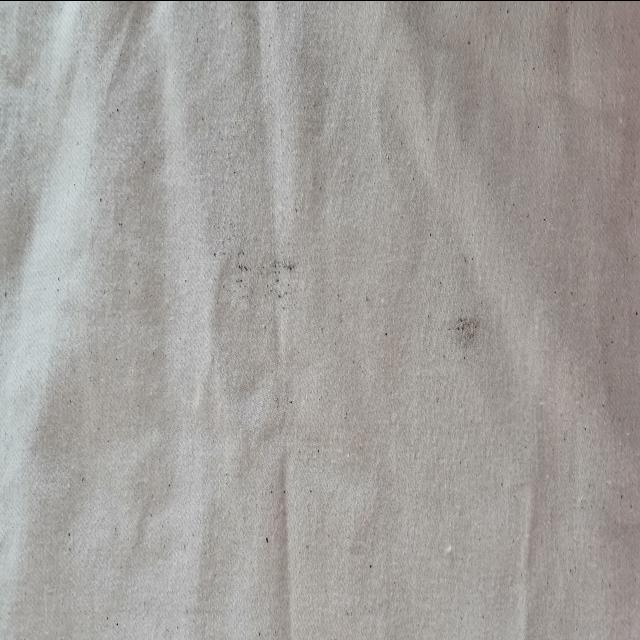taaaches: (232, 229, 307, 304), (445, 287, 496, 373)
